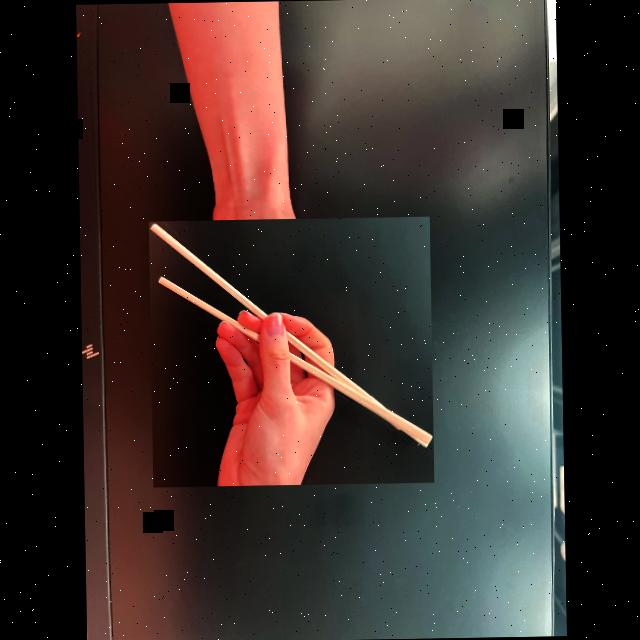stick: (148, 216, 434, 487)
